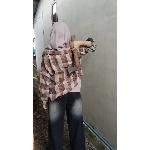Kapak: (64, 34, 84, 76)
